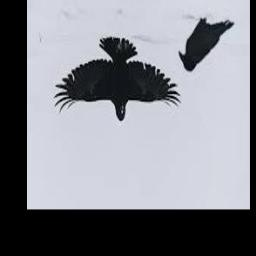Crow: (53, 37, 180, 122), (179, 18, 234, 73)
